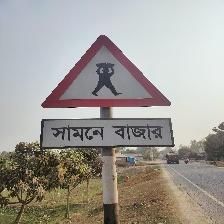Market-in-front: (37, 34, 174, 149)
